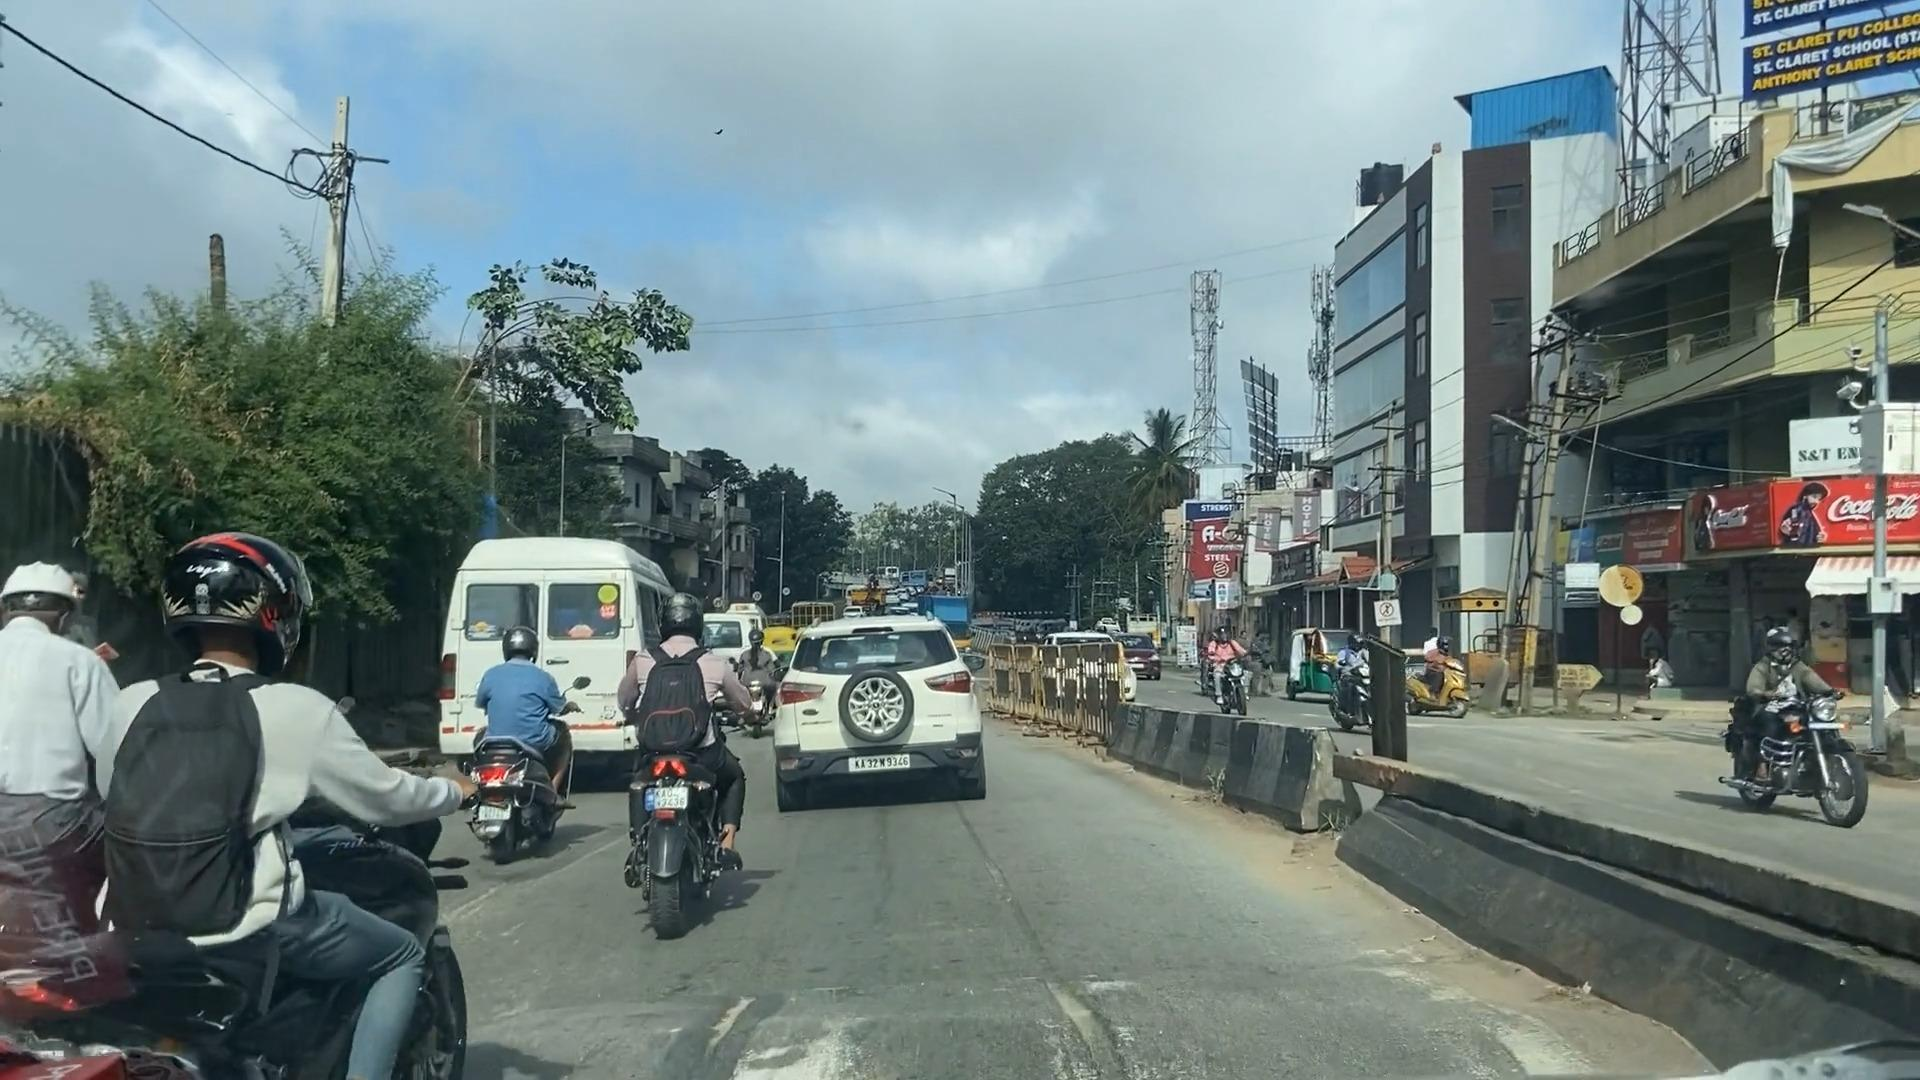HMV: (440, 541, 628, 758)
LMV: (611, 596, 746, 923), (774, 618, 989, 807), (471, 636, 560, 839)
SpeedBump: (418, 952, 1663, 1080)
